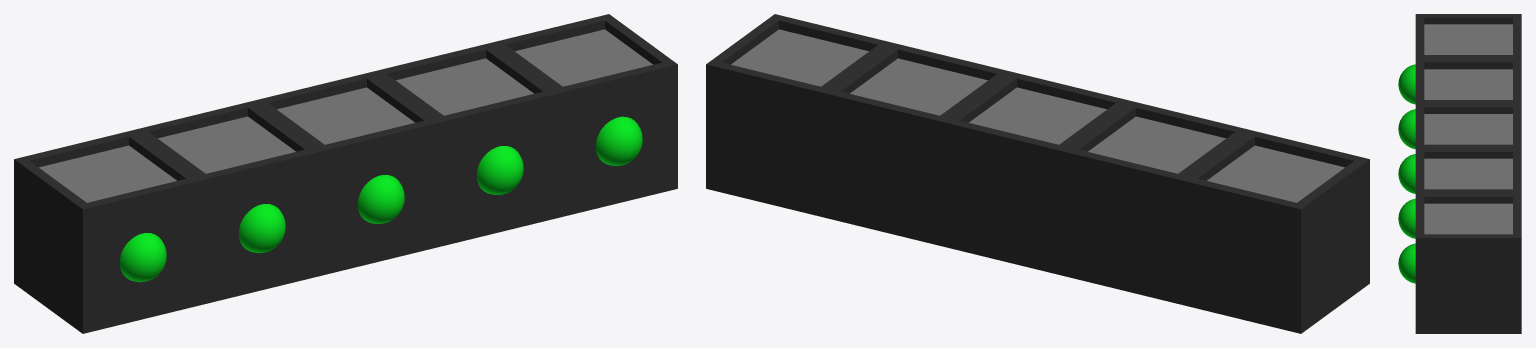
The model's file is полка.fbx.
The picture shows the model from 3 angles, left to right: view 1: azimuth 30°, elevation 25°; view 2: azimuth 150°, elevation 25°; view 3: azimuth 270°, elevation 25°; orthographic projection. The views are drawn at different scales.
Visible parts, largest first — view 1: Cube, Cube.001, Sphere, Sphere.003, Sphere.001, Sphere.002; view 2: Cube, Cube.001; view 3: Cube, Cube.001, Sphere, Sphere.002, Sphere.001, Sphere.003.
Boxes of the visible parts, x1,y1,x2,y2 form: Cube: [14, 14, 677, 333]; Cube.001: [39, 29, 652, 202]; Sphere: [119, 204, 285, 282]; Sphere.003: [595, 116, 642, 165]; Sphere.001: [357, 175, 404, 223]; Sphere.002: [476, 146, 523, 194]; Cube: [706, 14, 1369, 333]; Cube.001: [731, 29, 1344, 202]; Cube: [1415, 14, 1521, 333]; Cube.001: [1424, 24, 1512, 234]; Sphere: [1398, 64, 1415, 149]; Sphere.002: [1398, 198, 1415, 238]; Sphere.001: [1398, 154, 1415, 193]; Sphere.003: [1398, 243, 1415, 283].
Bounding box in the file's own units: 1000 × 200 × 233.
